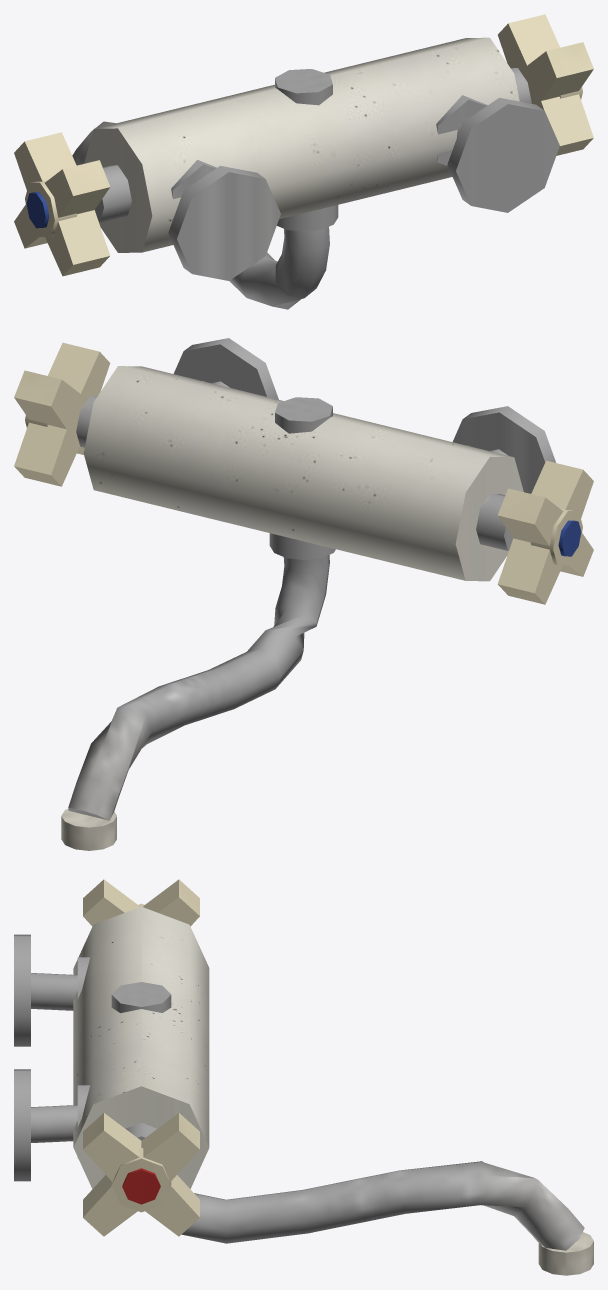
The model's file is faucet_ceramic_lod1_web.glb.
The picture shows the model from 3 angles, top to bottom: view 1: azimuth 30°, elevation 25°; view 2: azimuth 150°, elevation 25°; view 3: azimuth 270°, elevation 25°; orthographic projection.
Parts seen in each view (by area): view 1: Chrome_FaucetCeramic, Chrome_Spout; view 2: Chrome_FaucetCeramic, Chrome_Spout; view 3: Chrome_FaucetCeramic, Chrome_Spout.
Part boxes in pixels (x1,y1,x2,y2): Chrome_FaucetCeramic: (14,14,593,280); Chrome_Spout: (72,121,338,309); Chrome_FaucetCeramic: (14,338,593,604); Chrome_Spout: (61,533,335,850); Chrome_FaucetCeramic: (14,879,209,1236); Chrome_Spout: (182,1161,593,1275).
Bounding box in the file's own units: 0.288 × 0.14 × 0.273.
Materials: 6 (6 with a texture image).
